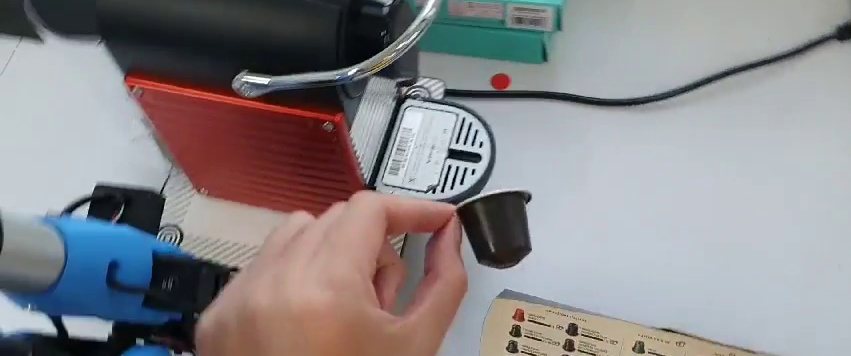capsule_4: (450, 186, 541, 273)
